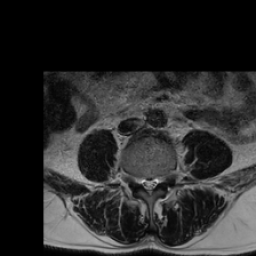CCS_stenosis: (146, 171, 152, 199)
LFS_normal: (159, 169, 166, 189)
LLS_normal: (152, 171, 159, 194)
RFS_normal: (132, 169, 139, 191)
RLS_stenosis: (139, 170, 146, 193)
